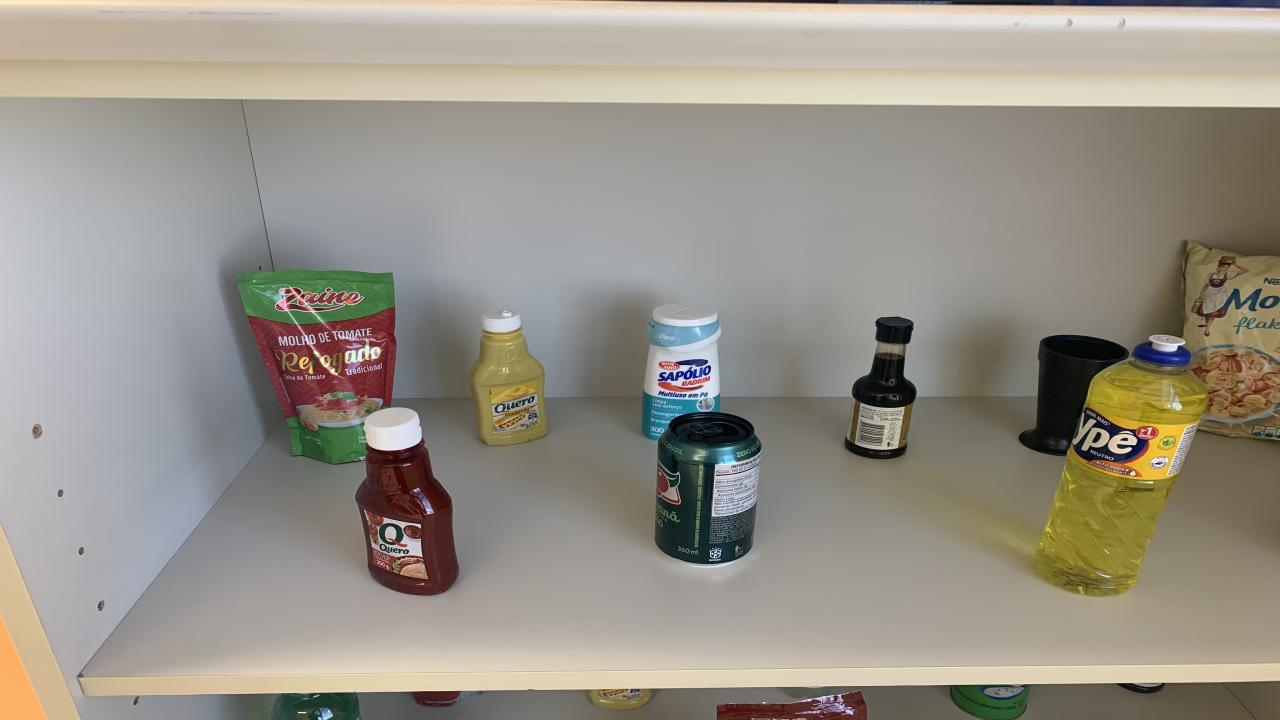Cleaner-Cleanup_Items: (642, 304, 722, 439)
Detergent-Cleanup_Items: (1035, 336, 1208, 596), (272, 692, 360, 720)
English_Sauce-Pantry_Items: (845, 317, 915, 459)
Flakes-Snacks: (1182, 242, 1280, 441)
Guarana_Can-Drinks: (655, 412, 762, 566)
Ketchup-Pantry_Items: (355, 407, 458, 594)
Mustard-Pantry_Items: (470, 311, 548, 444), (590, 688, 652, 711)
Pringles-Snacks: (950, 684, 1030, 720)
Tomato_Sauce-Pantry_Items: (240, 270, 395, 463), (718, 692, 868, 720)
